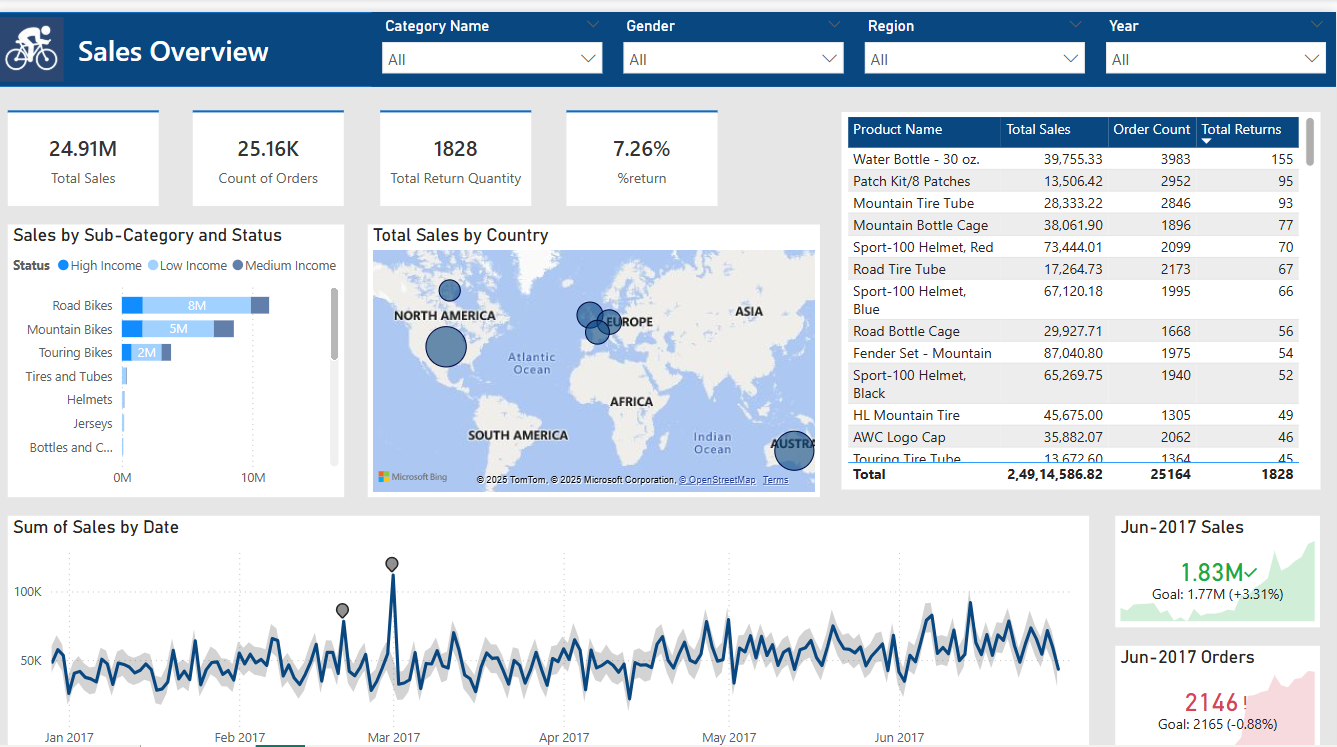

What the dashboard file says about the page in this screenshot:
{"tool":"powerbi","page":{"name":"Overview","canvas":[1280,720],"ordinal":0},"visuals":[{"type":"shape","title":"Sales ","box":[0,0,1280.2,71.5],"z":0},{"type":"image","box":[0,0,71.5,71.5],"z":1000},{"type":"card","fields":{"Values":["Sum(FinaL Sales.Sales)"]},"box":[13.6,95.4,144.2,89.4],"z":2000},{"type":"card","fields":{"Values":["Measure Table.%return"]},"box":[545.5,95.8,144.2,89.4],"z":3000},{"type":"card","fields":{"Values":["Sum(Returns.ReturnQuantity)"]},"box":[368.3,95.4,144.2,89.4],"z":4000},{"type":"card","fields":{"Values":["Count(FinaL Sales.OrderNumber)"]},"box":[189.5,95.4,144.2,89.4],"z":5000},{"type":"shape","box":[13.1,83.4,144.2,22.6],"z":6000},{"type":"shape","box":[189.5,83.4,144.2,22.6],"z":7000},{"type":"shape","box":[368.3,83.4,144.2,22.6],"z":8000},{"type":"shape","box":[545.9,83.4,144.2,22.6],"z":9000},{"type":"barChart","title":"Sales by Sub-Category and Status","fields":{"Y":["Sum(FinaL Sales.Sales)"],"Category":["Product Subcategories.SubcategoryName"],"Series":["Customers Table.Status"]},"box":[13.1,202.6,320.7,259.9],"z":10000},{"type":"lineChart","fields":{"Y":["Sum(FinaL Sales.Sales)"],"Category":["DateTable.Date"]},"box":[13.1,480.4,1031.1,230.1],"z":11000},{"type":"kpi","fields":{"Indicator":["Measure Table.TotalSales"],"TrendLine":["DateTable.YearMonth"],"Goal":["Measure Table.previousmonthsales"]},"box":[1069.5,480.4,195.5,106.1],"z":12000},{"type":"kpi","fields":{"TrendLine":["DateTable.YearMonth"],"Goal":["Measure Table.previousmonthorders"],"Indicator":["Measure Table.countordernumber"]},"box":[1069.5,604.4,195.5,106.1],"z":13000},{"type":"tableEx","fields":{"Values":["Products.ProductName","Measure Table.TotalSales","Measure Table.countordernumber","Sum(Returns.ReturnQuantity)"]},"box":[808.2,95.4,456.5,360],"z":14000},{"type":"map","title":"Total Sales by Country","fields":{"Category":["Territories.Country"],"Size":["Measure Table.TotalSales"]},"box":[356.4,202.6,431.5,259.9],"z":15000},{"type":"slicer","fields":{"Values":["Customers Table.Gender"]},"box":[590.1,0,230.1,71.5],"z":16000},{"type":"slicer","fields":{"Values":["Territories.Region"]},"box":[820.1,0,230.1,71.5],"z":17000},{"type":"slicer","fields":{"Values":["DateTable.YearMonth.Variation.Date Hierarchy.Year"]},"box":[1050.2,0,230.1,71.5],"z":18000},{"type":"slicer","fields":{"Values":["Product Categories.CategoryName"]},"box":[360,0,230.1,71.5],"z":19000}]}

Visuals, with their boxes in screenshot pixels (x1, y1, x2, y2), scaled from the page's 1280x720 canvas onto the 1337x747 screenshot:
"Sales " shape: x1=0 y1=0 x2=1336 y2=74
image: x1=0 y1=0 x2=75 y2=74
card - Sum(FinaL Sales.Sales): x1=14 y1=99 x2=165 y2=192
card - Measure Table.%return: x1=570 y1=99 x2=720 y2=192
card - Sum(Returns.ReturnQuantity): x1=385 y1=99 x2=535 y2=192
card - Count(FinaL Sales.OrderNumber): x1=198 y1=99 x2=349 y2=192
shape: x1=14 y1=87 x2=164 y2=110
shape: x1=198 y1=87 x2=349 y2=110
shape: x1=385 y1=87 x2=535 y2=110
shape: x1=570 y1=87 x2=721 y2=110
"Sales by Sub-Category and Status" barChart: x1=14 y1=210 x2=349 y2=480
lineChart - Sum(FinaL Sales.Sales) x DateTable.Date: x1=14 y1=498 x2=1091 y2=737
kpi - Measure Table.TotalSales x DateTable.YearMonth: x1=1117 y1=498 x2=1321 y2=608
kpi - DateTable.YearMonth x Measure Table.previousmonthorders: x1=1117 y1=627 x2=1321 y2=737
tableEx - Products.ProductName x Measure Table.TotalSales: x1=844 y1=99 x2=1321 y2=472
"Total Sales by Country" map: x1=372 y1=210 x2=823 y2=480
slicer - Customers Table.Gender: x1=616 y1=0 x2=857 y2=74
slicer - Territories.Region: x1=857 y1=0 x2=1097 y2=74
slicer - DateTable.YearMonth.Variation.Date Hierarchy.Year: x1=1097 y1=0 x2=1336 y2=74
slicer - Product Categories.CategoryName: x1=376 y1=0 x2=616 y2=74
